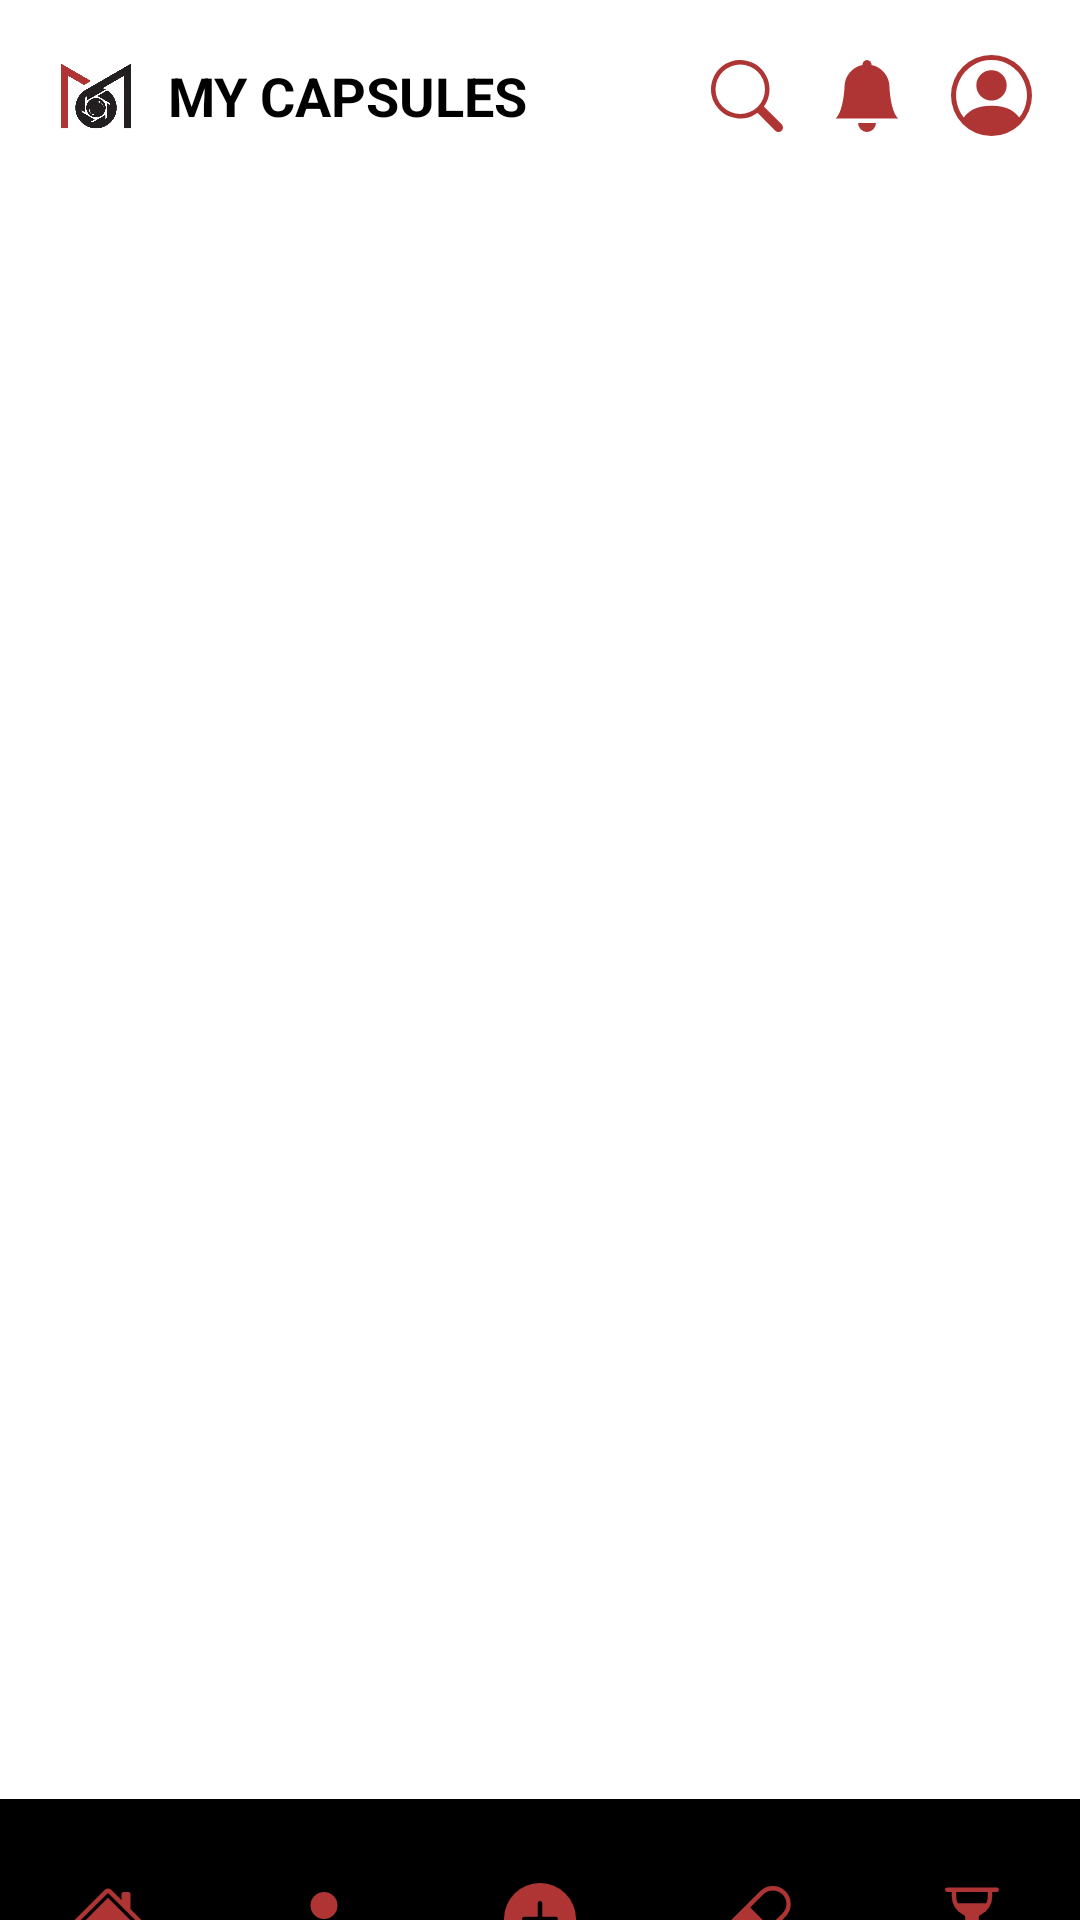

Icon click points for this 1080px×1920px phone screenshot, format point (x, y):
Notifications: point (867, 96)
Search: point (747, 96)
